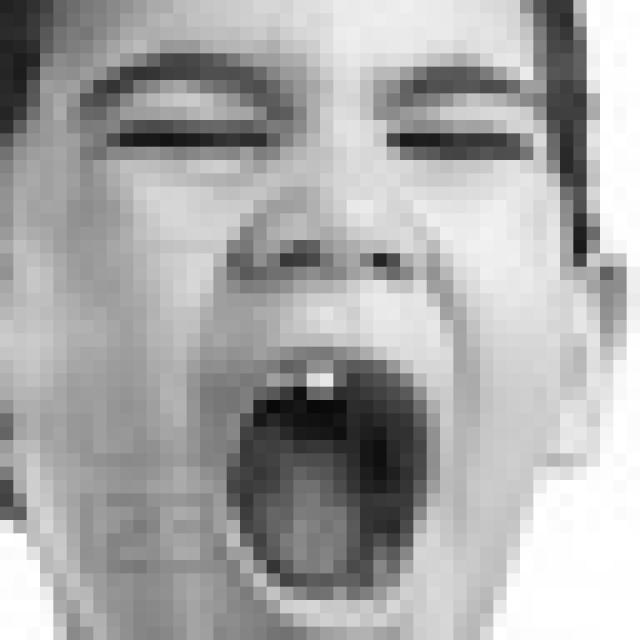angry: (84, 47, 544, 640)
